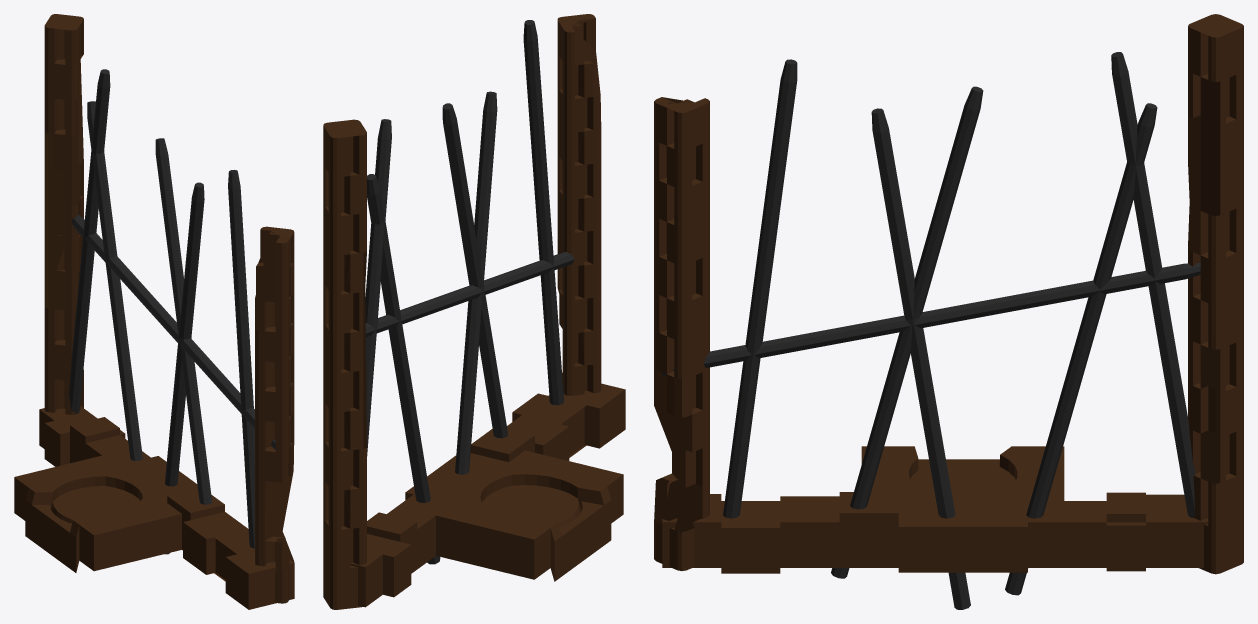
File: Gate2.fbx
3 renders of one model, left to right at view 1: azimuth 30°, elevation 25°; view 2: azimuth 150°, elevation 25°; view 3: azimuth 270°, elevation 25°, orthographic. The views are drawn at different scales.
Visible parts, largest first — view 1: Cube.001, Cube.002, Cube, Cylinder, Cylinder.004, Cylinder.003, Cylinder.002, Cylinder.001, Cylinder.005; view 2: Cube.001, Cube.002, Cube, Cylinder, Cylinder.001, Cylinder.004, Cylinder.003, Cylinder.002, Cylinder.005; view 3: Cube.001, Cube.002, Cube, Cylinder, Cylinder.005, Cylinder.001, Cylinder.003, Cylinder.004, Cylinder.002.
Part boxes in pixels (x1,y1,x2,y2): Cube.001: [14, 406, 294, 609]; Cube.002: [44, 14, 83, 414]; Cube: [255, 226, 294, 603]; Cylinder: [228, 170, 254, 548]; Cylinder.004: [155, 138, 212, 504]; Cylinder.003: [87, 101, 142, 461]; Cylinder.002: [69, 69, 110, 414]; Cylinder.001: [164, 182, 204, 554]; Cylinder.005: [71, 214, 275, 449]; Cube.001: [350, 383, 625, 607]; Cube.002: [323, 119, 366, 609]; Cube: [557, 14, 601, 395]; Cylinder: [523, 20, 563, 405]; Cylinder.001: [455, 91, 497, 474]; Cylinder.004: [442, 103, 507, 438]; Cylinder.003: [367, 174, 440, 564]; Cylinder.002: [365, 119, 391, 455]; Cylinder.005: [365, 252, 574, 337]; Cube.001: [662, 446, 1208, 573]; Cube.002: [1188, 14, 1243, 574]; Cube: [654, 97, 709, 570]; Cylinder: [723, 59, 797, 518]; Cylinder.005: [662, 262, 1200, 375]; Cylinder.001: [871, 108, 970, 609]; Cylinder.003: [1005, 103, 1157, 595]; Cylinder.004: [831, 86, 983, 578]; Cylinder.002: [1111, 52, 1196, 517].
Bounding box in the file's own units: 97.66 × 316 × 291.
